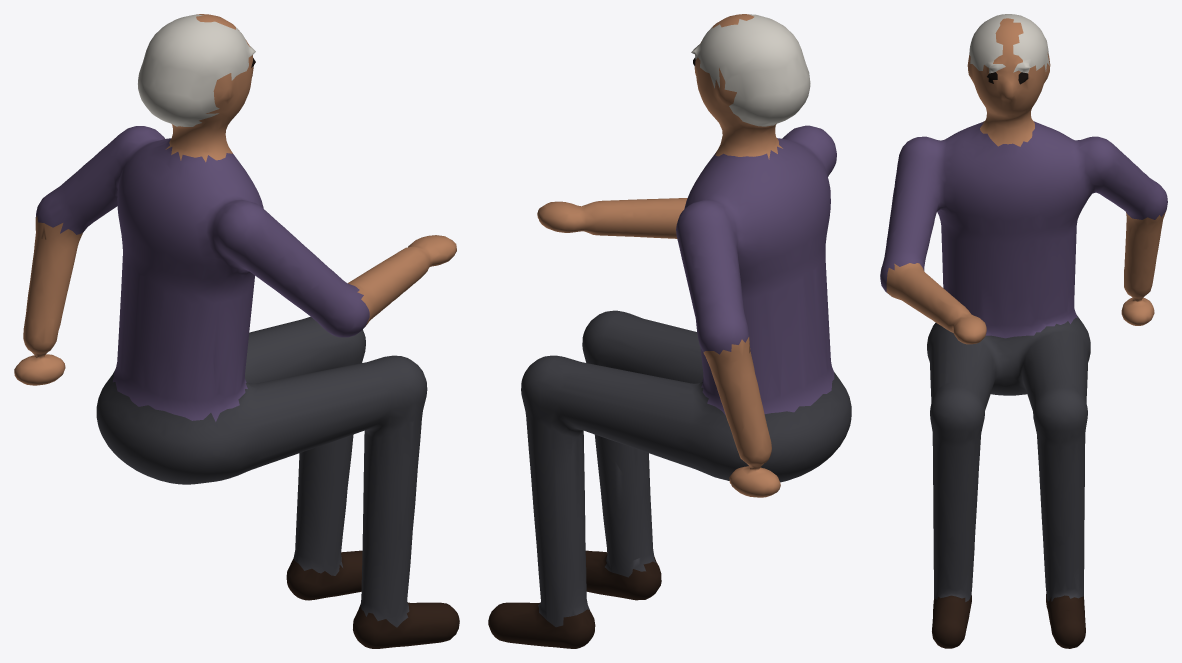
The model's file is SM_Crowd_Seated_F.glb.
3 renders of one model, left to right at view 1: azimuth 30°, elevation 25°; view 2: azimuth 150°, elevation 25°; view 3: azimuth 270°, elevation 25°, orthographic. The views are drawn at different scales.
Visible parts, largest first — view 1: SM_Crowd_Seated_F; view 2: SM_Crowd_Seated_F; view 3: SM_Crowd_Seated_F.
Boxes of the visible parts, box(x1,y1,x2,y2) form: SM_Crowd_Seated_F: box(14, 14, 459, 648); SM_Crowd_Seated_F: box(488, 14, 851, 648); SM_Crowd_Seated_F: box(880, 14, 1167, 648).
Size of the model in its own units: 0.7653 by 1.4 by 0.669.
